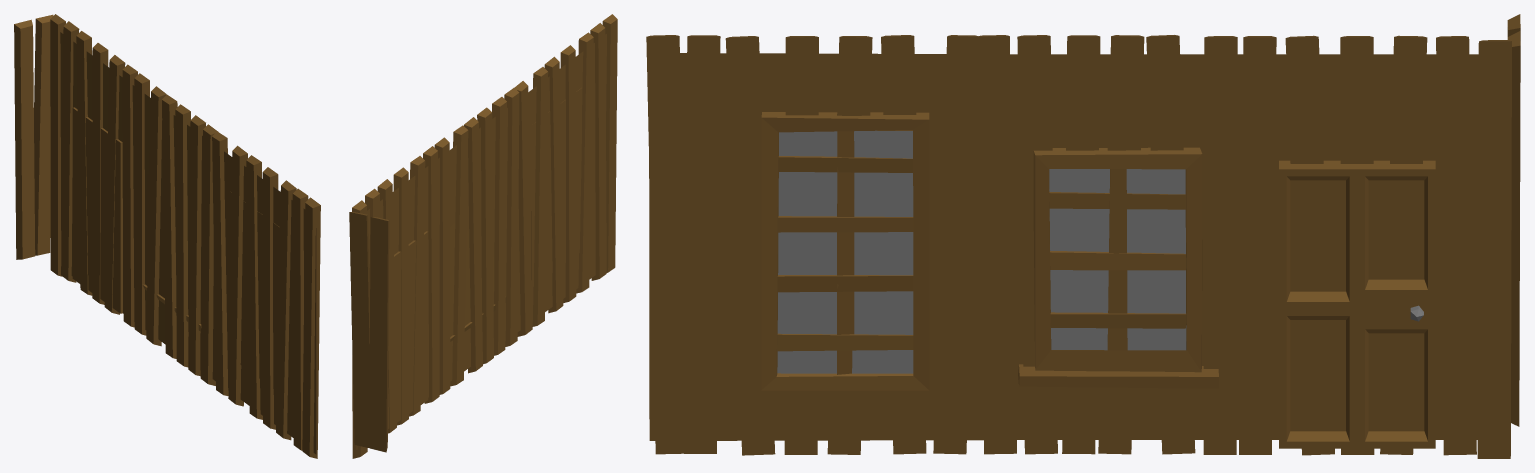
Rendered from case.fbx.
3 renders of one model, left to right at view 1: azimuth 30°, elevation 25°; view 2: azimuth 150°, elevation 25°; view 3: azimuth 270°, elevation 25°, orthographic. The views are drawn at different scales.
Parts seen in each view (by area): view 1: estermo.001; view 2: estermo.001; view 3: estermo.001.
Boxes of the visible parts, x1,y1,x2,y2 form: estermo.001: (14, 14, 320, 458); estermo.001: (349, 14, 617, 458); estermo.001: (646, 14, 1520, 458).
Size of the model in its own units: 25.54 by 114 by 214.
